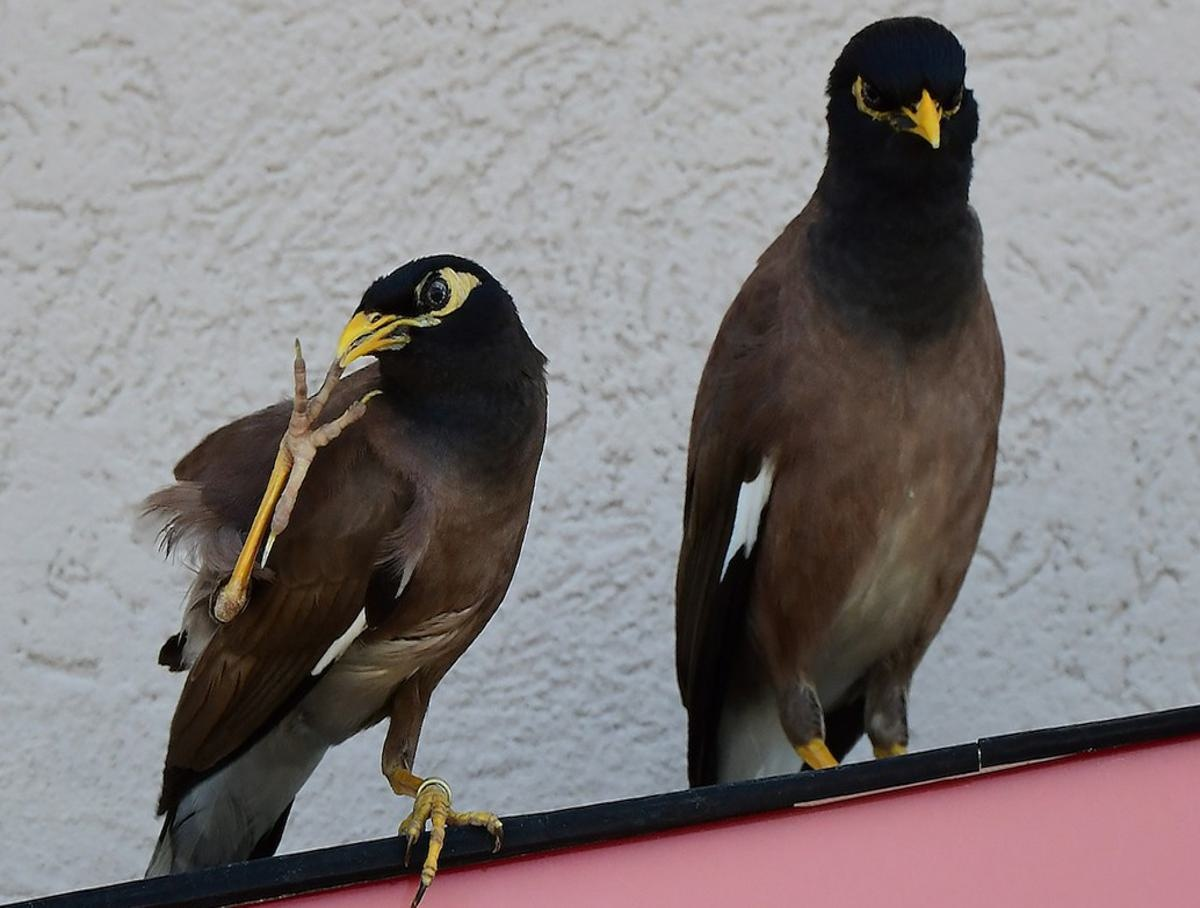myna: (613, 18, 981, 847), (130, 236, 557, 857)
